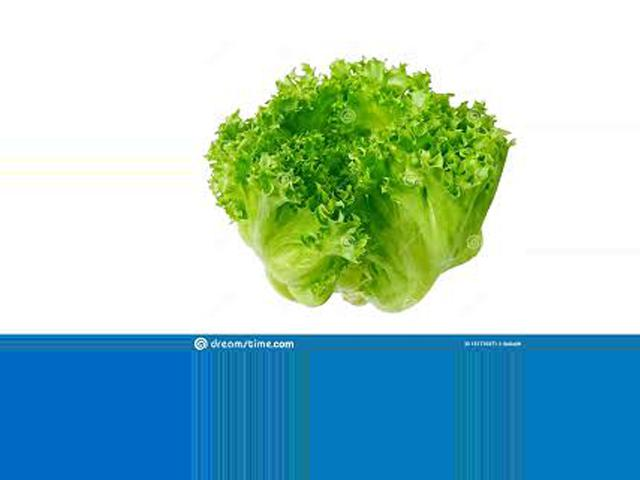lettuce: (205, 48, 502, 328)
